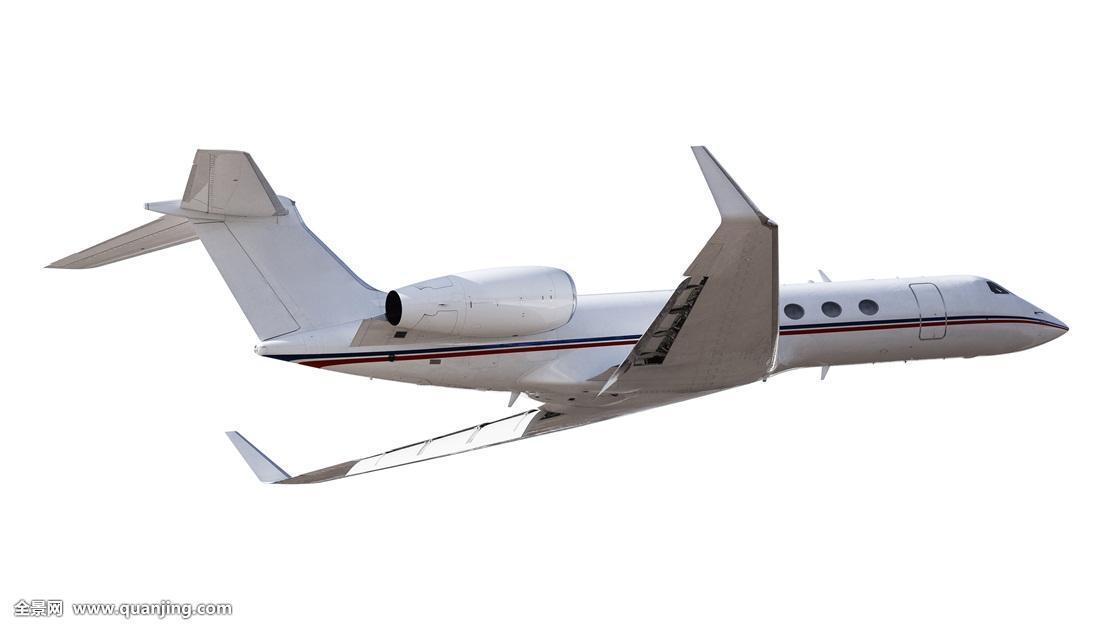airplane: (41, 140, 1077, 488)
